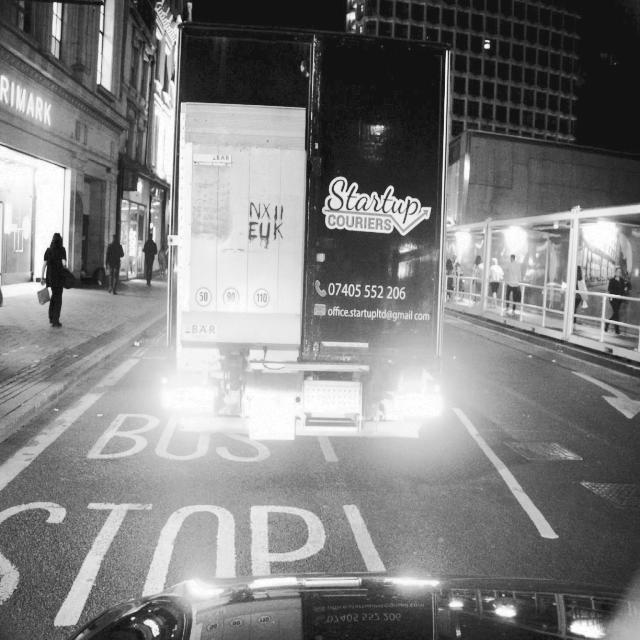Truck: (172, 20, 454, 446)
